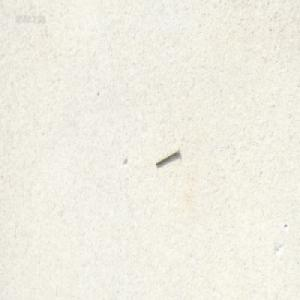Bolt: (154, 145, 179, 166)
